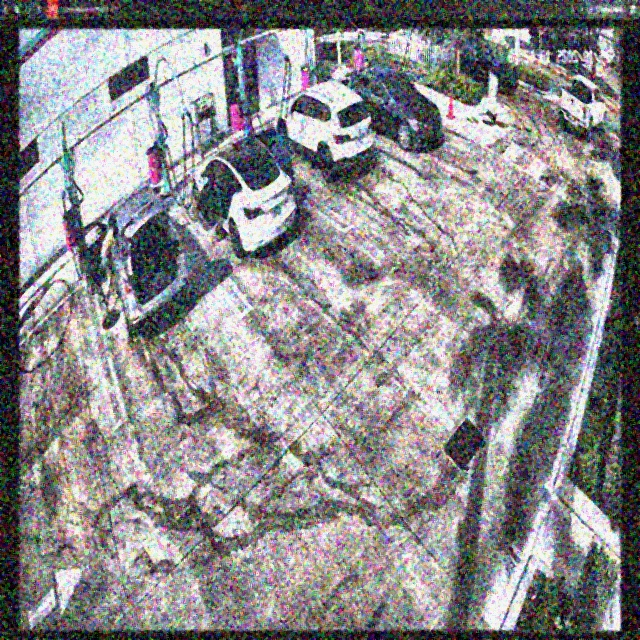Car: (79, 183, 188, 337), (192, 136, 297, 258), (276, 81, 372, 181), (338, 63, 443, 150)
